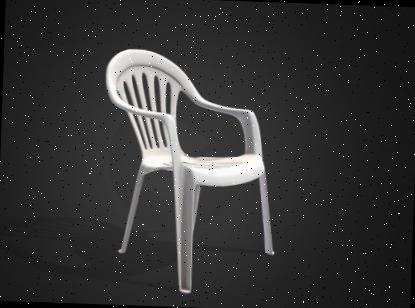chair: (88, 43, 281, 299)
